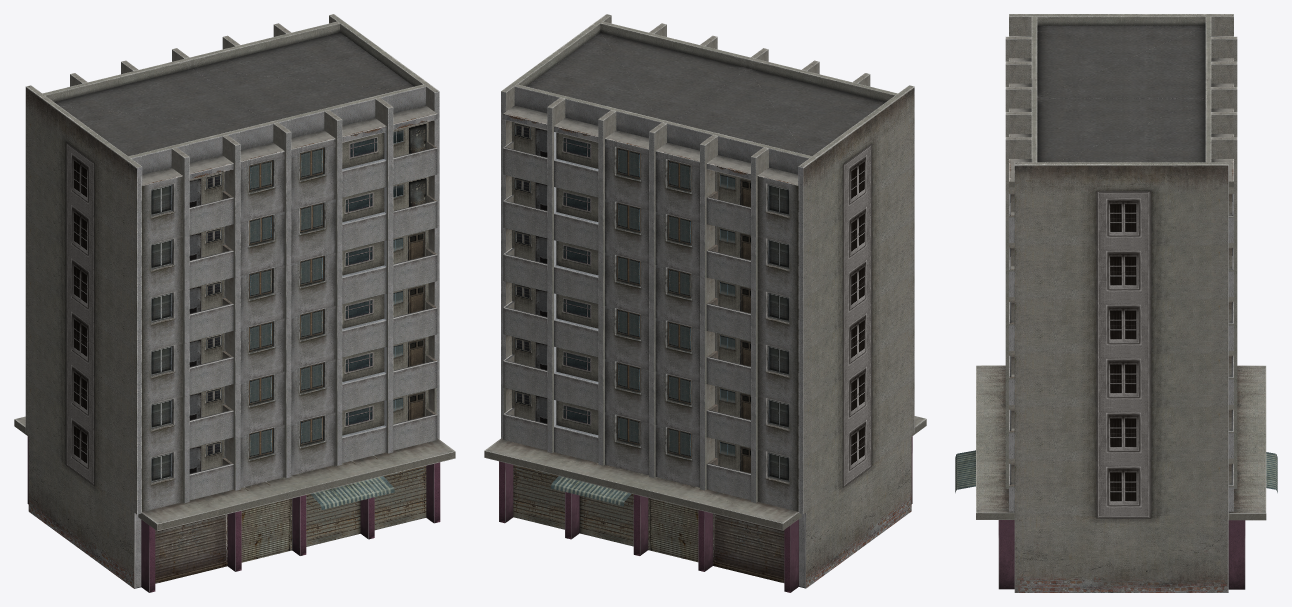
The model's file is buildings_06.FBX.
3 views of the same model, side by side, from view 1: azimuth 30°, elevation 25°; view 2: azimuth 150°, elevation 25°; view 3: azimuth 270°, elevation 25° (orthographic).
Parts seen in each view (by area): view 1: Object001; view 2: Object001; view 3: Object001.
Part boxes in pixels (x1,y1,x2,y2): Object001: (14, 14, 455, 592); Object001: (484, 14, 926, 592); Object001: (955, 14, 1277, 592).
Bounding box in the file's own units: 1800 × 1625 × 2382.
1 material, 1 textured.
